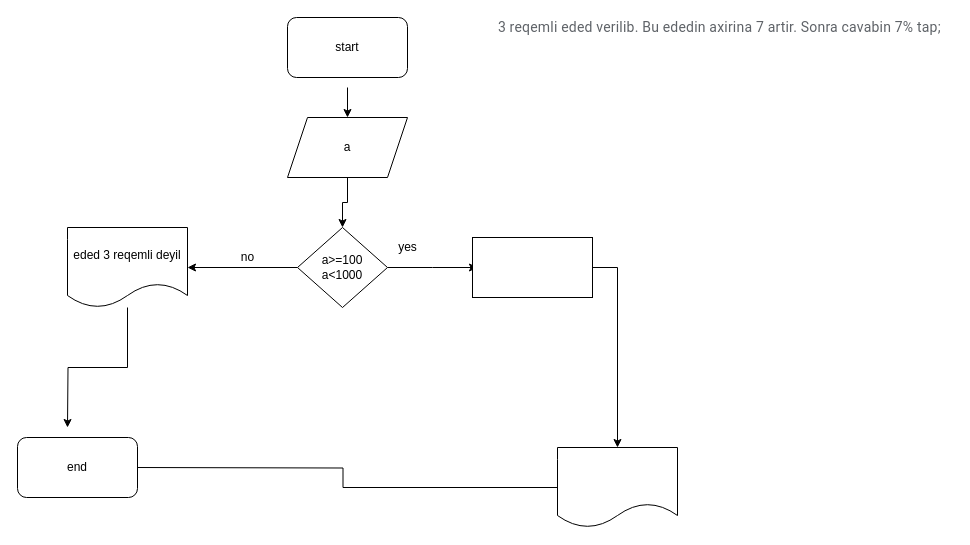
Image size: 970x545. Some labels were removed from this diagram. The centre of each missing label's shape, as x and y in pixels:
a=a*10+7 a=a*7/10: the point at 532,267
cavab a: the point at 617,487
